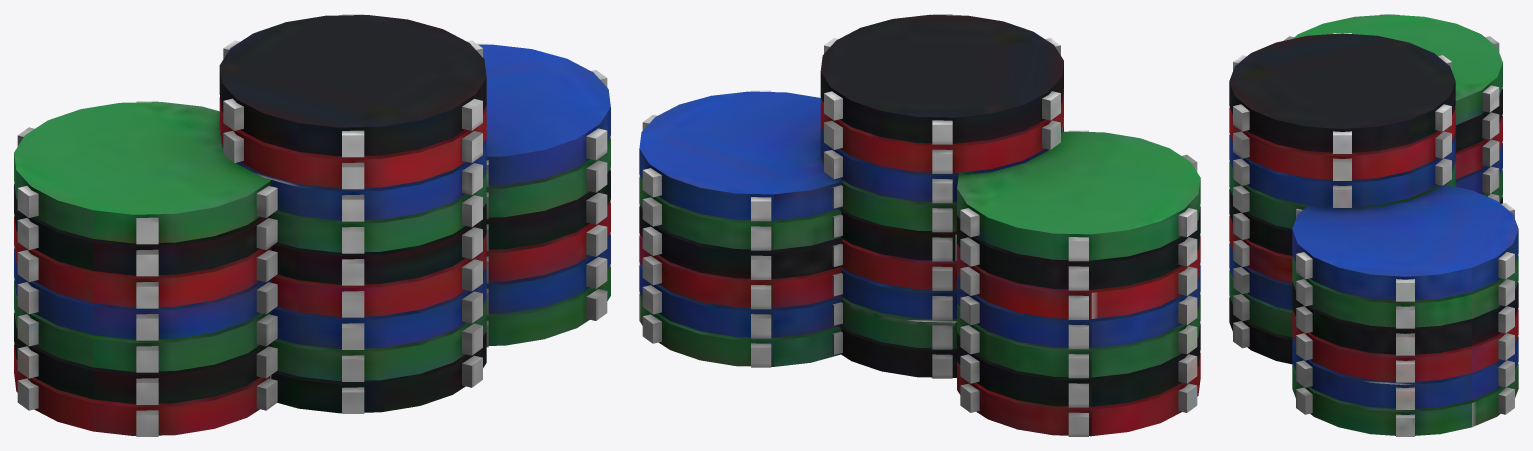
File: fichas.glb
The picture shows the model from 3 angles, left to right: view 1: azimuth 30°, elevation 25°; view 2: azimuth 150°, elevation 25°; view 3: azimuth 270°, elevation 25°; orthographic projection. The views are drawn at different scales.
Parts seen in each view (by area): view 1: fichas; view 2: fichas; view 3: fichas.
Boxes of the visible parts, box(x1,y1,x2,y2) form: fichas: box(14, 14, 610, 436); fichas: box(639, 14, 1200, 436); fichas: box(1229, 14, 1518, 436).
Size of the model in its own units: 1.82 by 0.845 by 0.92.
Materials: 1 (1 with a texture image).
